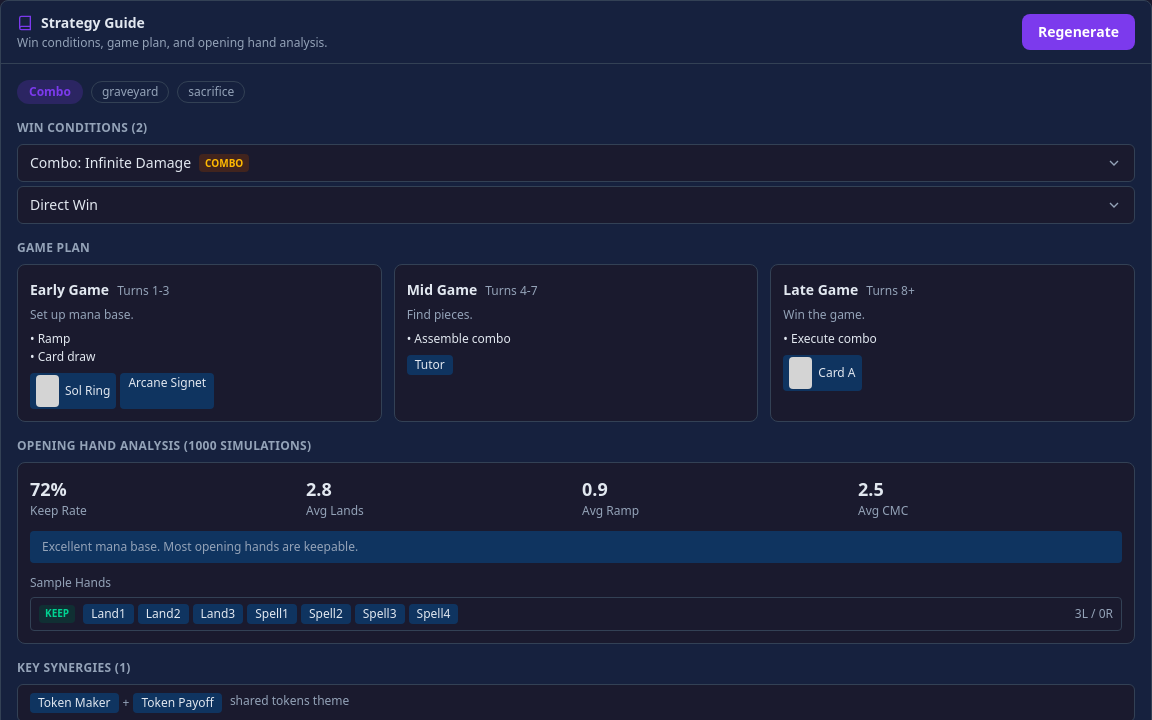
it: StrategyGuide › displays card name in lightbox
This screenshot has width=1152, height=720.
Step 1. Click the text "Combo: Infinite Damage" → (111, 163), box left=30, top=153, right=191, bottom=173
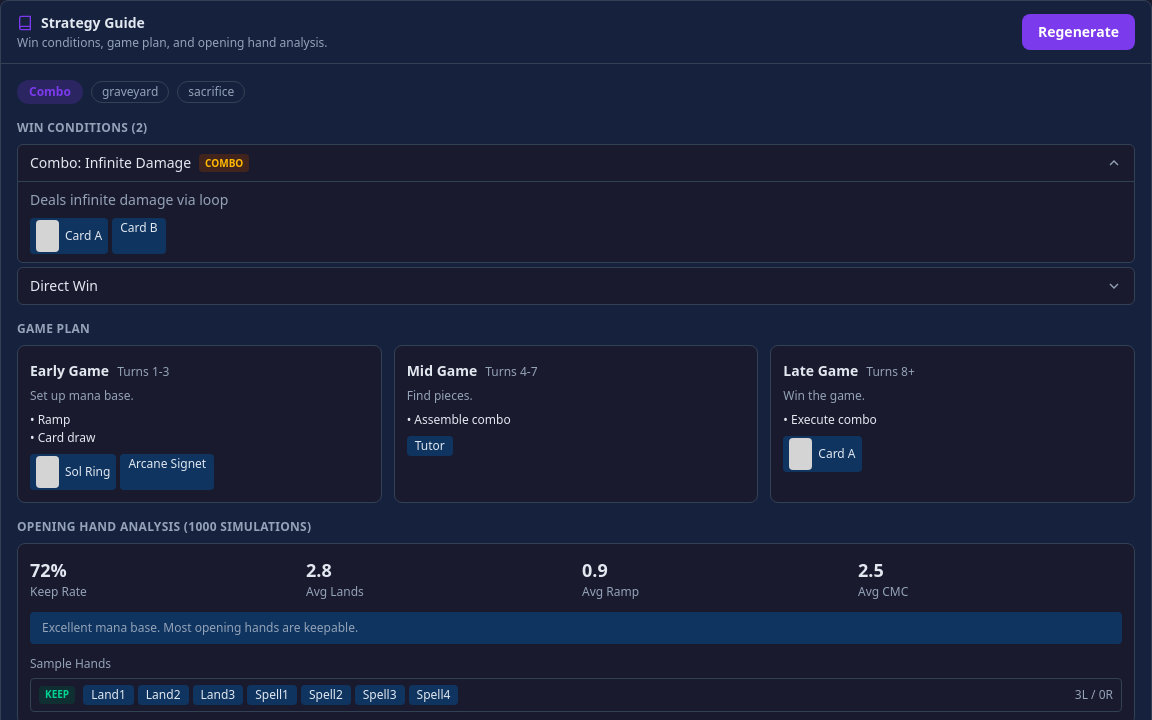
Step 2. Click the button with aria-label "view card a" → (69, 236), box left=30, top=218, right=108, bottom=254
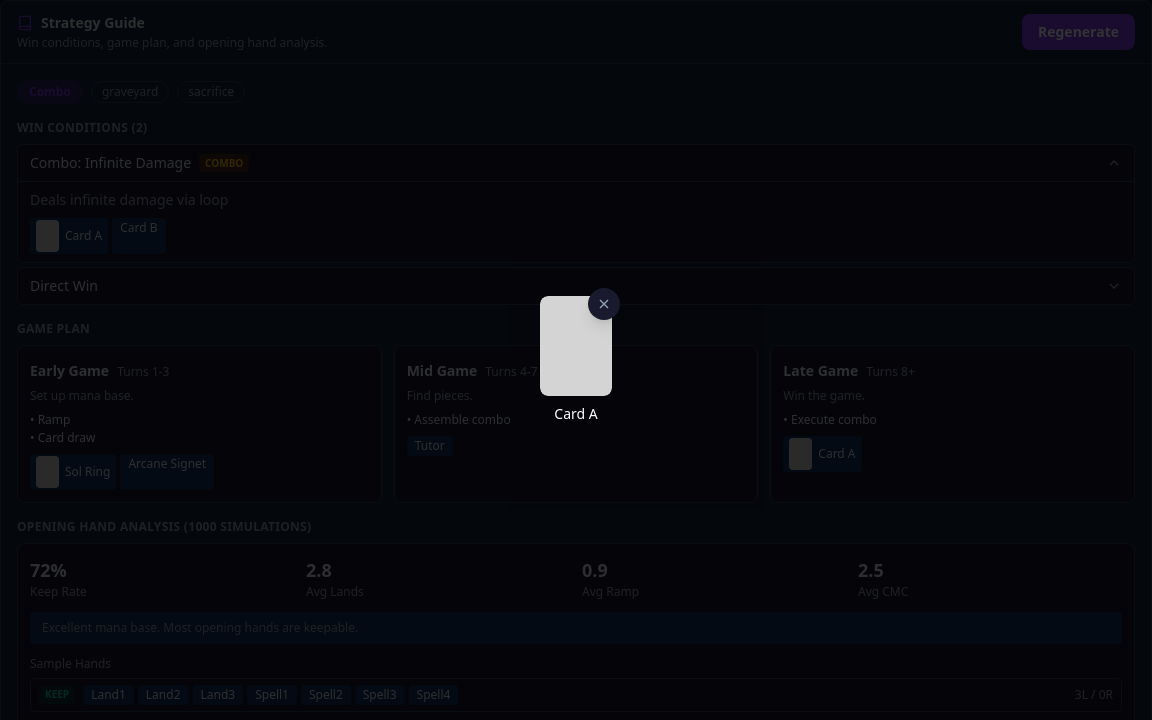
Check: the text "Card A" is shown, box left=554, top=404, right=598, bottom=423
